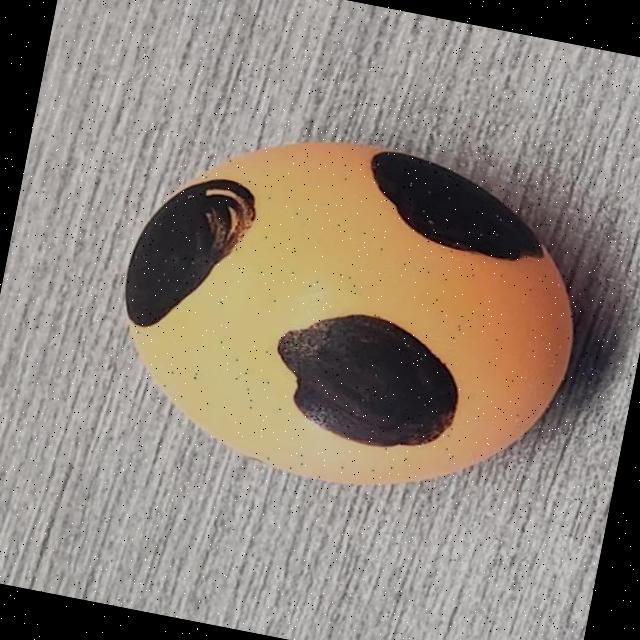ping-pong-ball: (47, 69, 640, 596)
